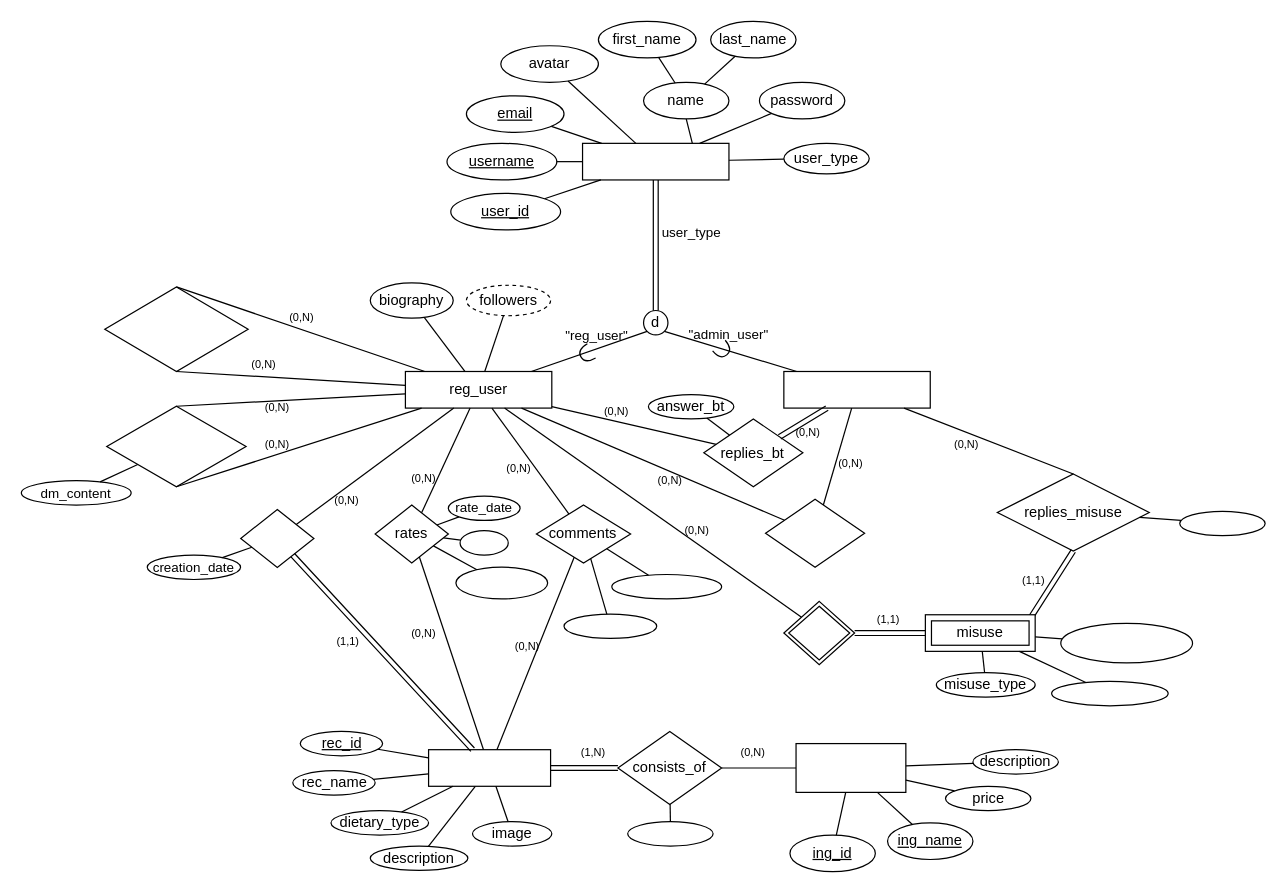
Some shapes in this 1287 by 893 pixel diagram are drawn without their labels. The centre of each missing label's shape, as x and y in pixels:
"admin_user" goes at pixel 856 389.
"amount" goes at pixel 669 833.
"answer_m" goes at pixel 1222 523.
"comm_content" goes at pixel 666 586.
"comm_date" goes at pixel 610 625.
"creates" goes at pixel 276 537.
"follows" goes at pixel 176 328.
"ingredients" goes at pixel 850 767.
"misuse_content" goes at pixel 1109 693.
"misuse_id" goes at pixel 1126 642.
"prep_ease" goes at pixel 501 582.
"recipes" goes at pixel 489 767.
"reports" goes at pixel 819 632.
"request_bt" goes at pixel 814 532.
"sends_message" goes at pixel 176 446.
"taste" goes at pixel 483 542.
"user" goes at pixel 655 161.
